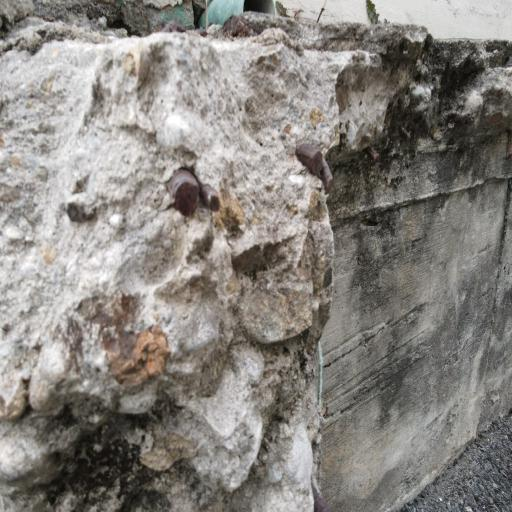exposed_rebar: (296, 144, 333, 193), (167, 169, 199, 215), (199, 185, 220, 212)
